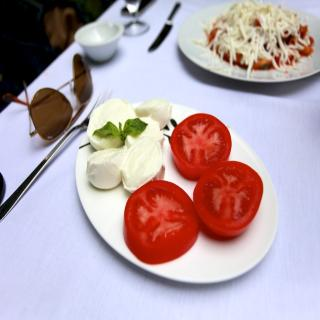tomato: (122, 180, 200, 266), (190, 161, 264, 239), (169, 112, 232, 182)
